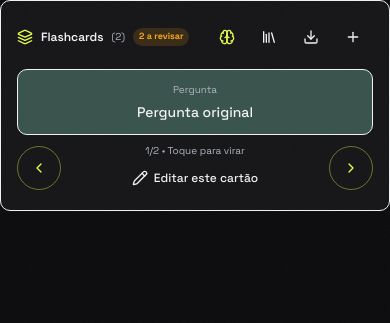
Test case: FlashcardsWidget › permite ao aluno editar pergunta e resposta e mantém a alteração na tela
Expected: the text "Pergunta original" is shown, [137, 102, 253, 120]
Step 1. Click the button "Editar este cartão" → (195, 178), box [120, 162, 270, 194]
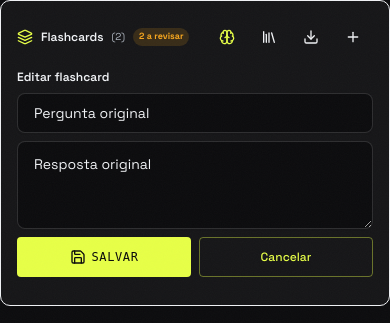
Step 2. Replace the text in the field named "Pergunta do flashcard" with "Pergunta corrigida" → (195, 113), box [17, 93, 373, 133]
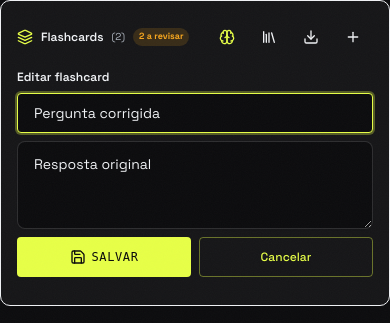
Step 3. Replace the text in the text box named "Resposta do flashcard" with "Resposta corrigida" → (195, 185), box [17, 141, 373, 229]
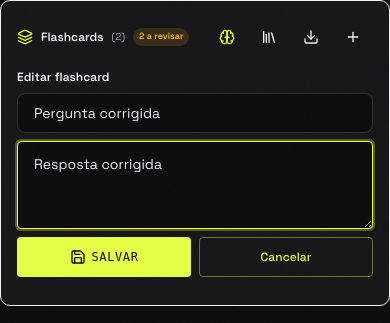
Step 4. Click the button "Salvar" → (104, 257), box [17, 237, 191, 277]
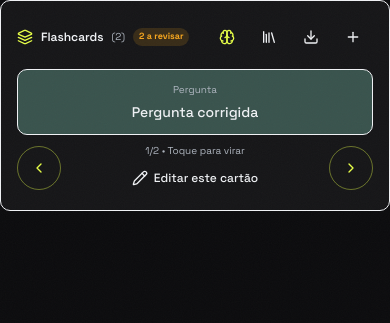
Expected: the text "Pergunta corrigida" is shown, [132, 102, 258, 120]
